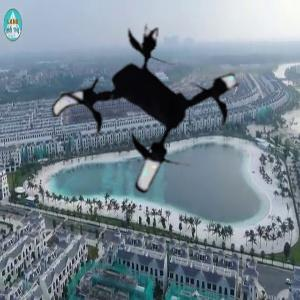drone: (49, 18, 241, 210)
